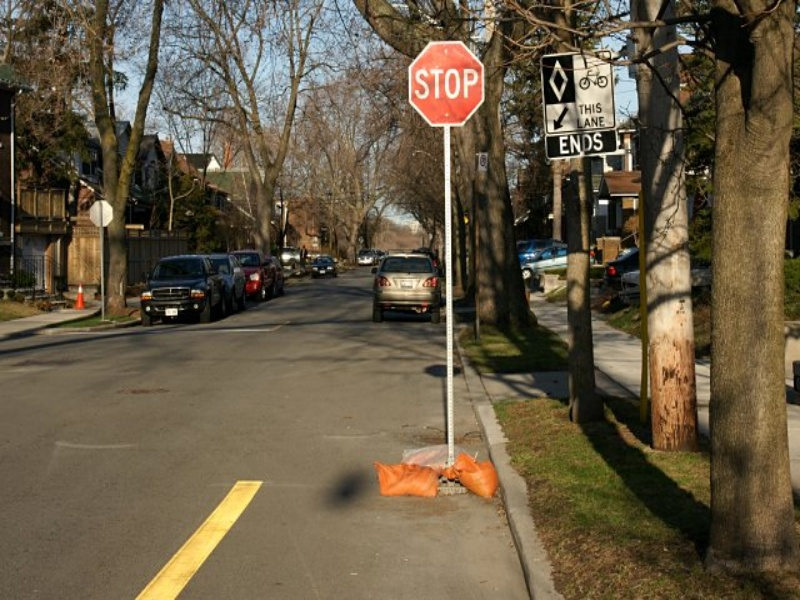stop sign: (403, 38, 492, 133)
